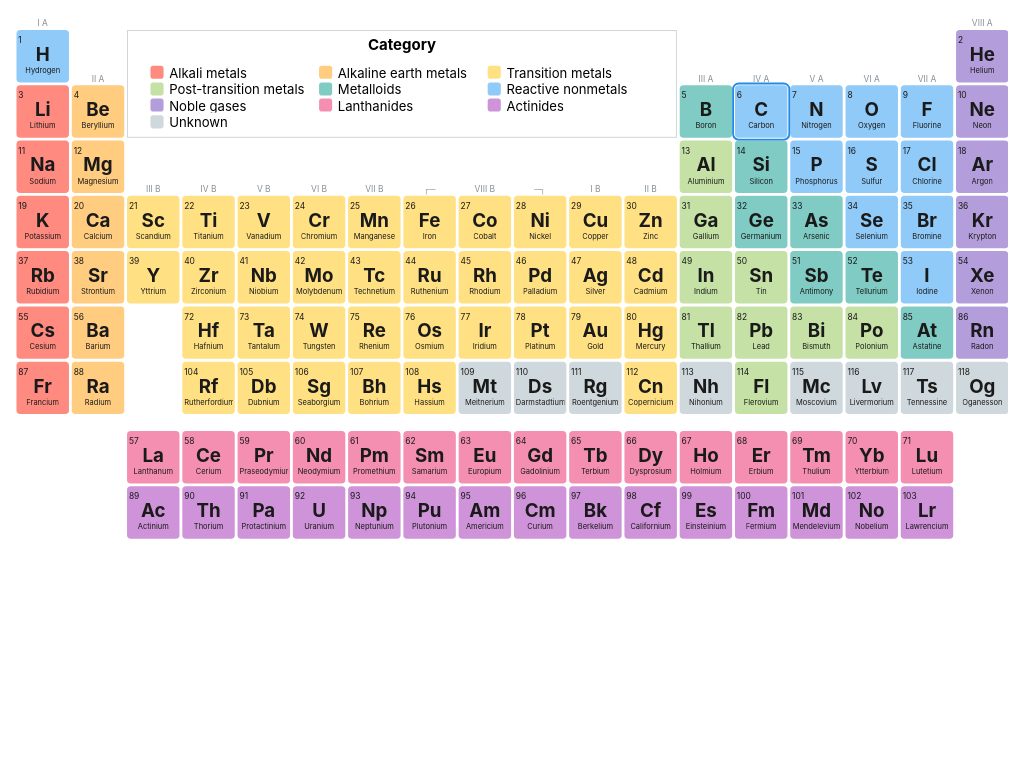
Test: PeriodicTable selection after scaling › opens the detail view when a cell is activated from the keyboard
Press Enter in the button "6 C Carbon", box [734,85,787,138]
Click the button "6 C Carbon".
click(761, 112)  # box [734,85,787,138]
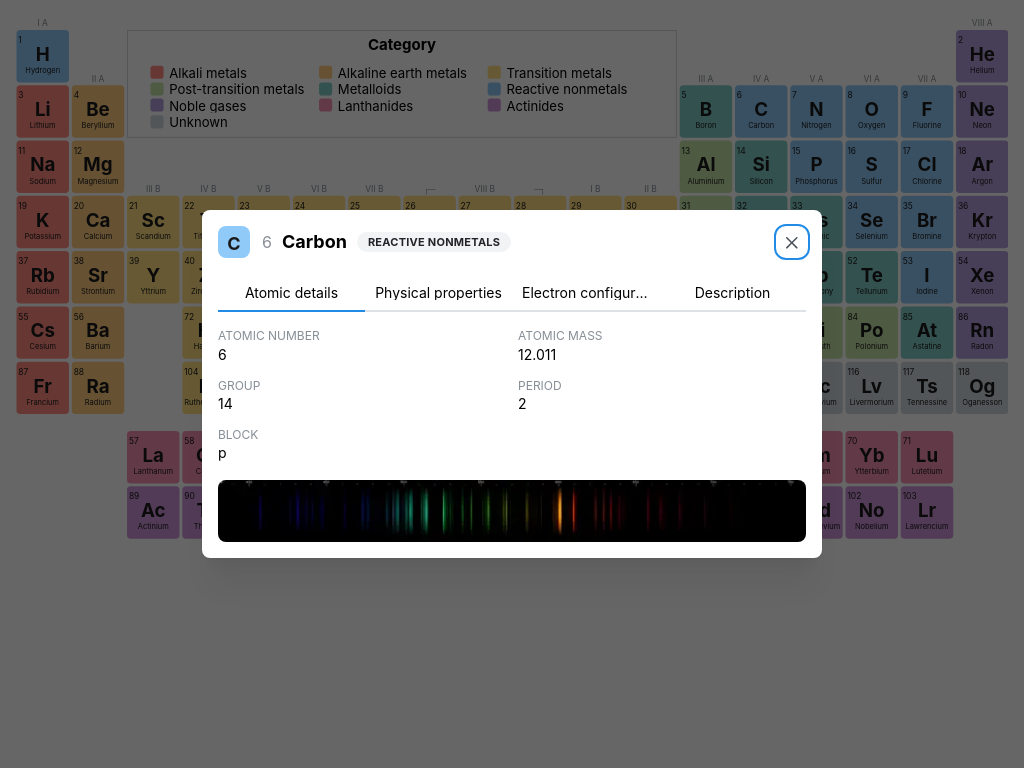
Expected: the heading "Carbon" is shown, [282,229,347,256]
